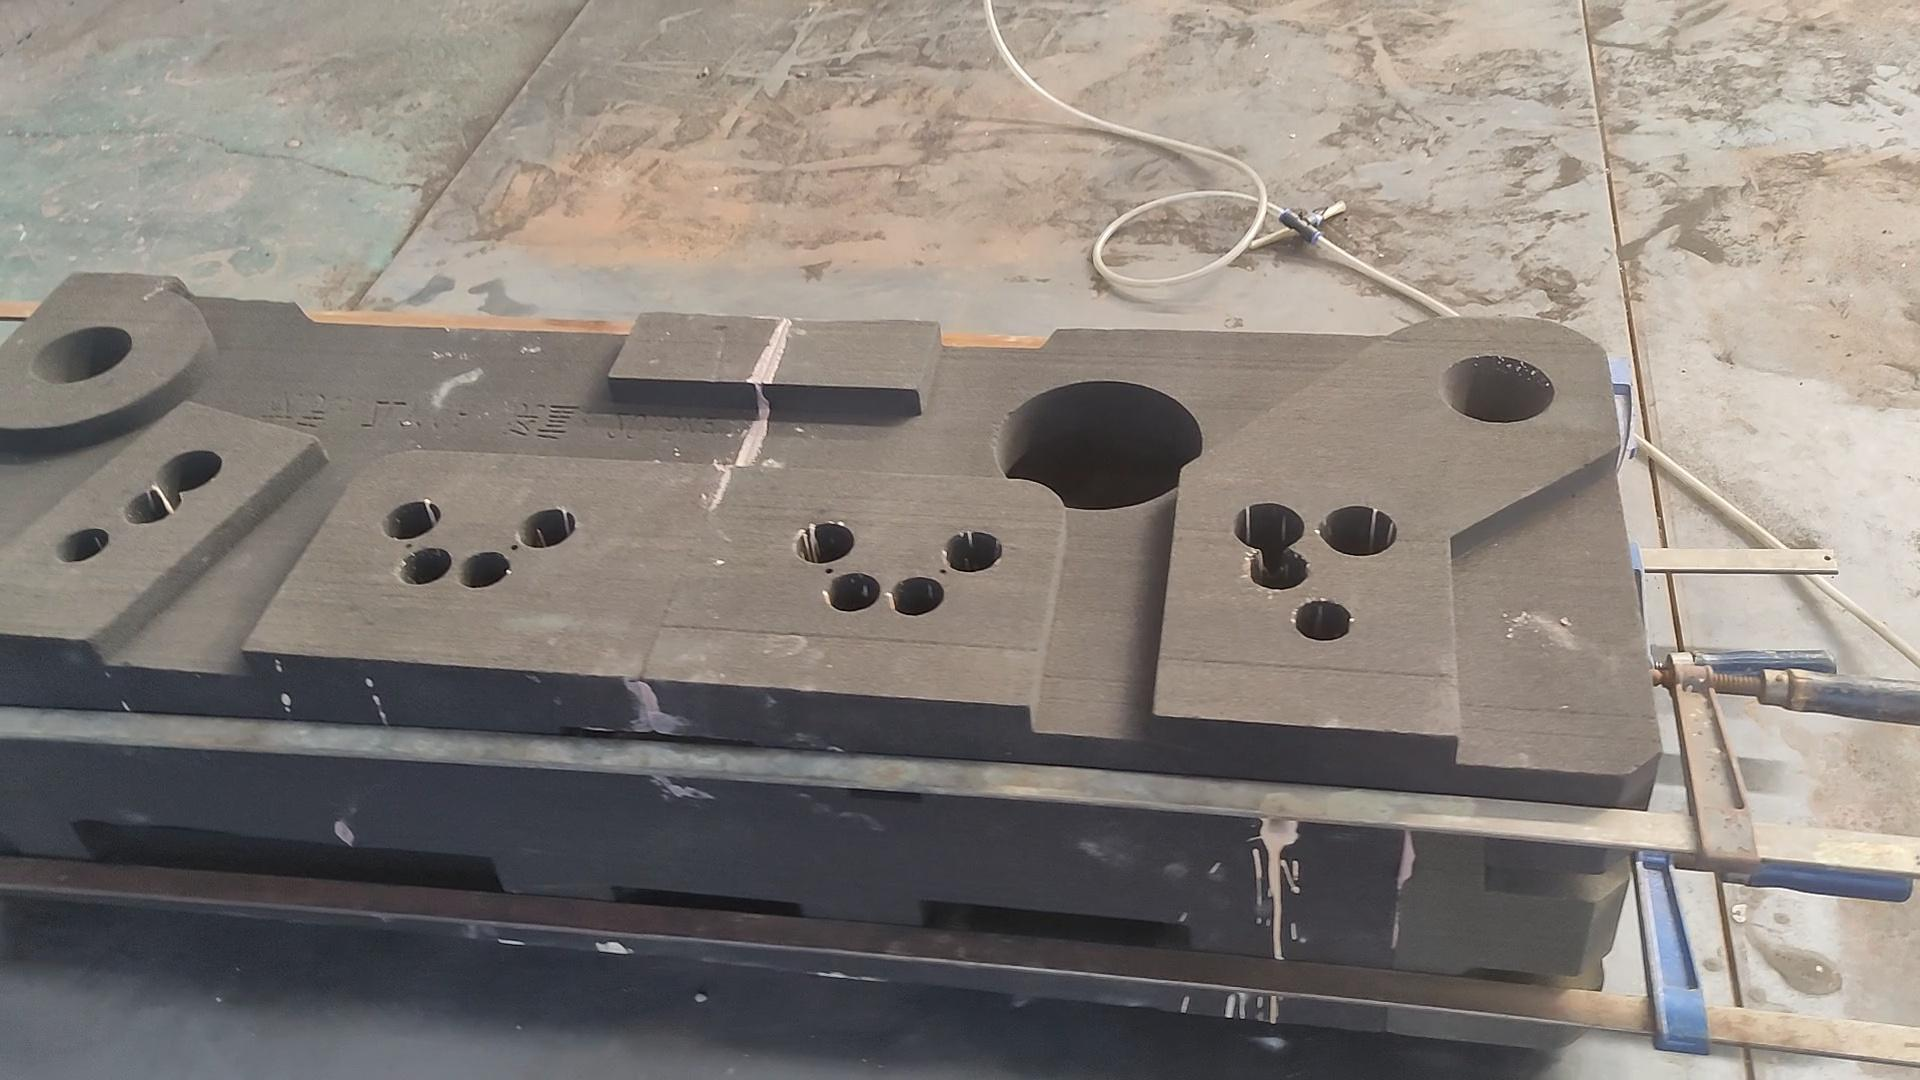pouring hole: (1437, 353, 1556, 422), (32, 326, 133, 384)
